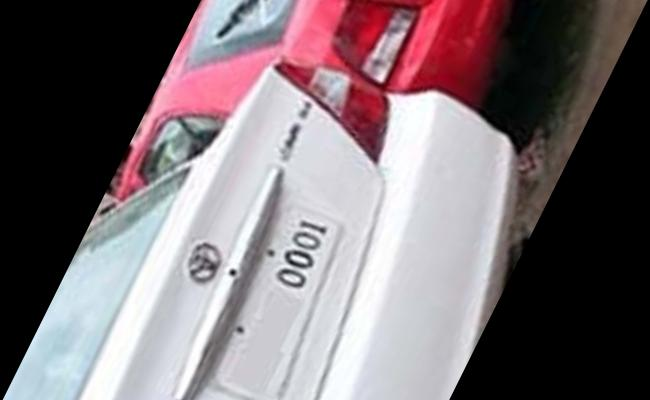plate: (207, 194, 357, 400)
